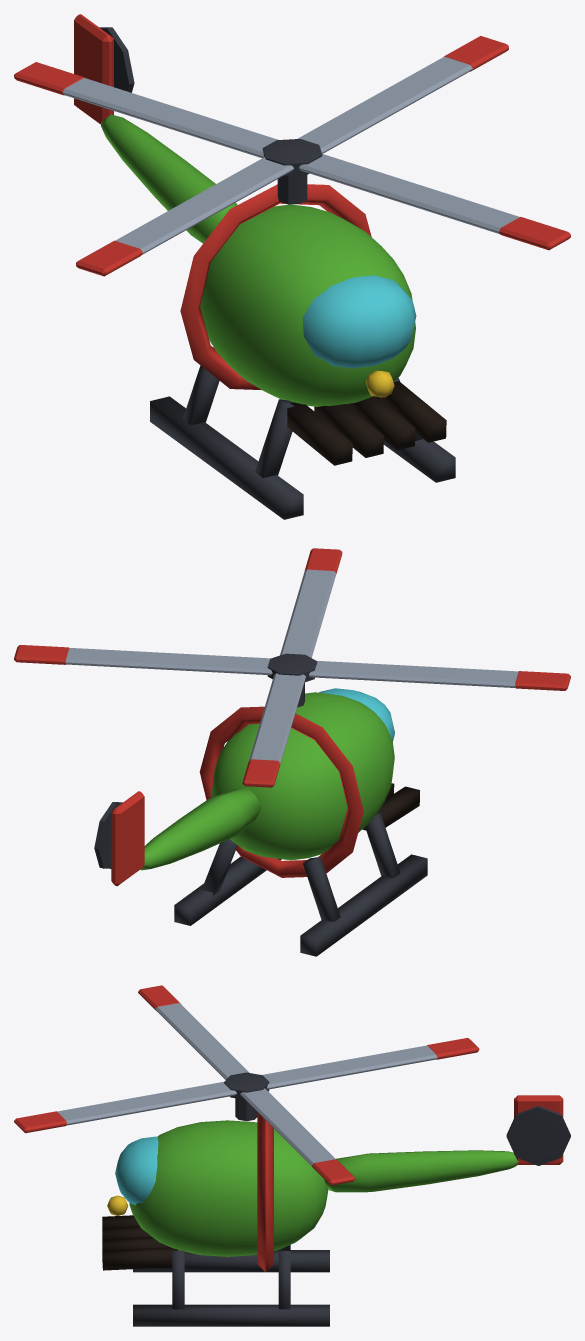
3 renders of one model, top to bottom at view 1: azimuth 30°, elevation 25°; view 2: azimuth 150°, elevation 25°; view 3: azimuth 270°, elevation 25°, orthographic. The views are drawn at different scales.
Parts seen in each view (by area): view 1: heli_0_base, heli_1_torreta; view 2: heli_0_base, heli_1_torreta; view 3: heli_0_base, heli_1_torreta.
Part boxes in pixels (box(x1,y1,x2,y2)): heli_0_base: box(74, 14, 455, 519); heli_1_torreta: box(14, 36, 570, 276); heli_0_base: box(94, 688, 427, 956); heli_1_torreta: box(14, 548, 570, 787); heli_0_base: box(102, 1095, 570, 1326); heli_1_torreta: box(14, 985, 479, 1185).
Bounding box in the file's own units: 1.23 × 0.632 × 1.47.
